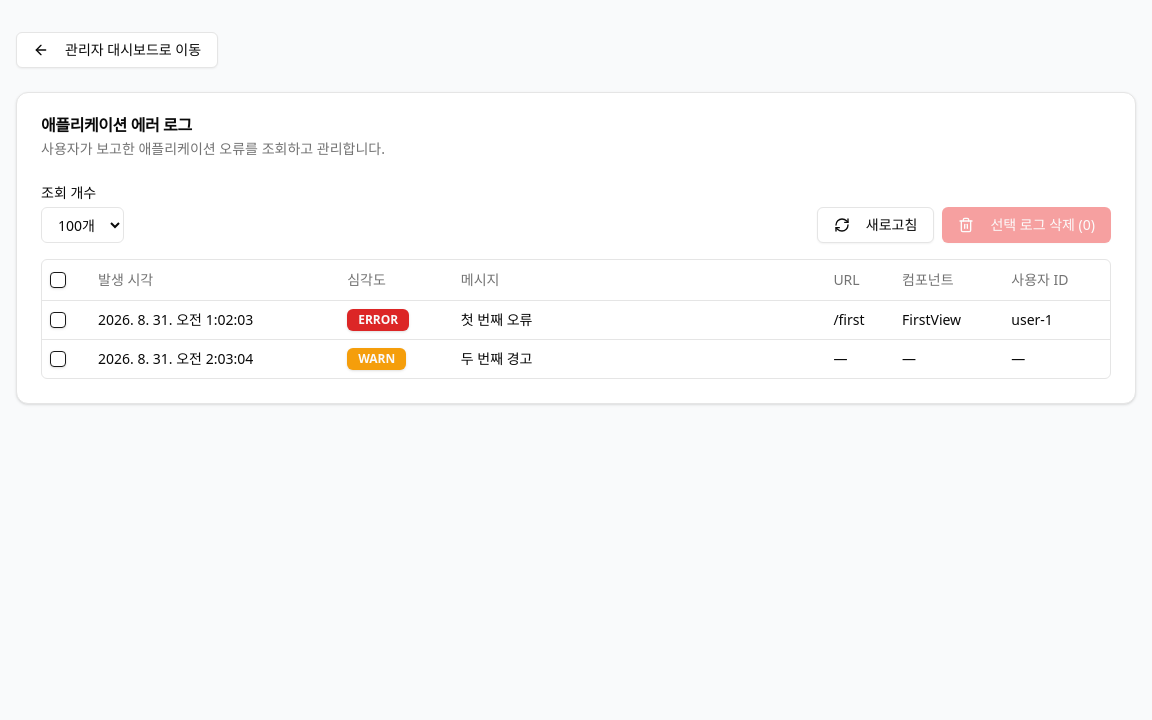
Test case: AppLogsHome › loads the latest 100 logs and exposes full details from a row
The width and height of the screenshot is (1152, 720).
Expected: the link "관리자 대시보드로 이동" is shown, [16,32,218,68]
Expected: the checkbox named "첫 번째 오류 (error-1) 선택" is shown, [50,312,66,328]
Click the button with aria-label "첫 번째 오류 상세 보기" at [497, 319], box [461,310,817,330]
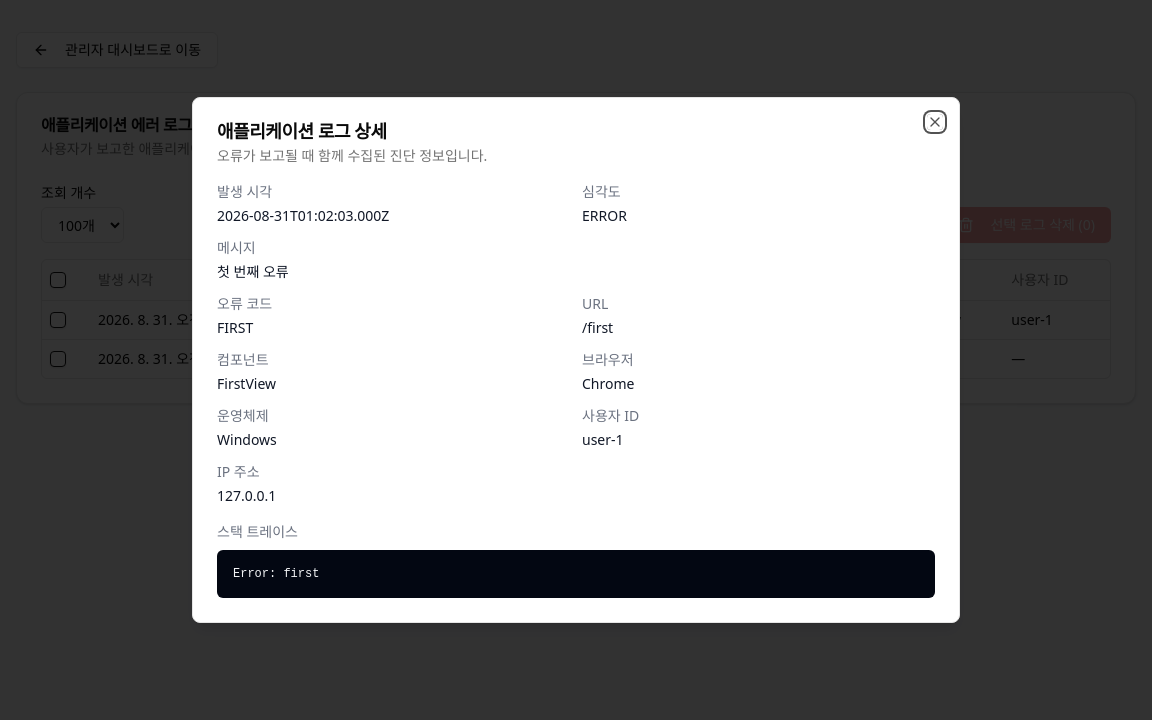
Result: the dialog shows "Error: first" at [233,567,319,581]
Result: the dialog shows "127.0.0.1" at [217,486,276,505]
